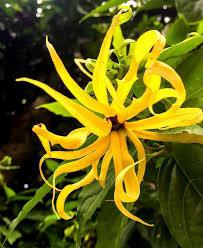ylang-ylang: (48, 26, 191, 221)
